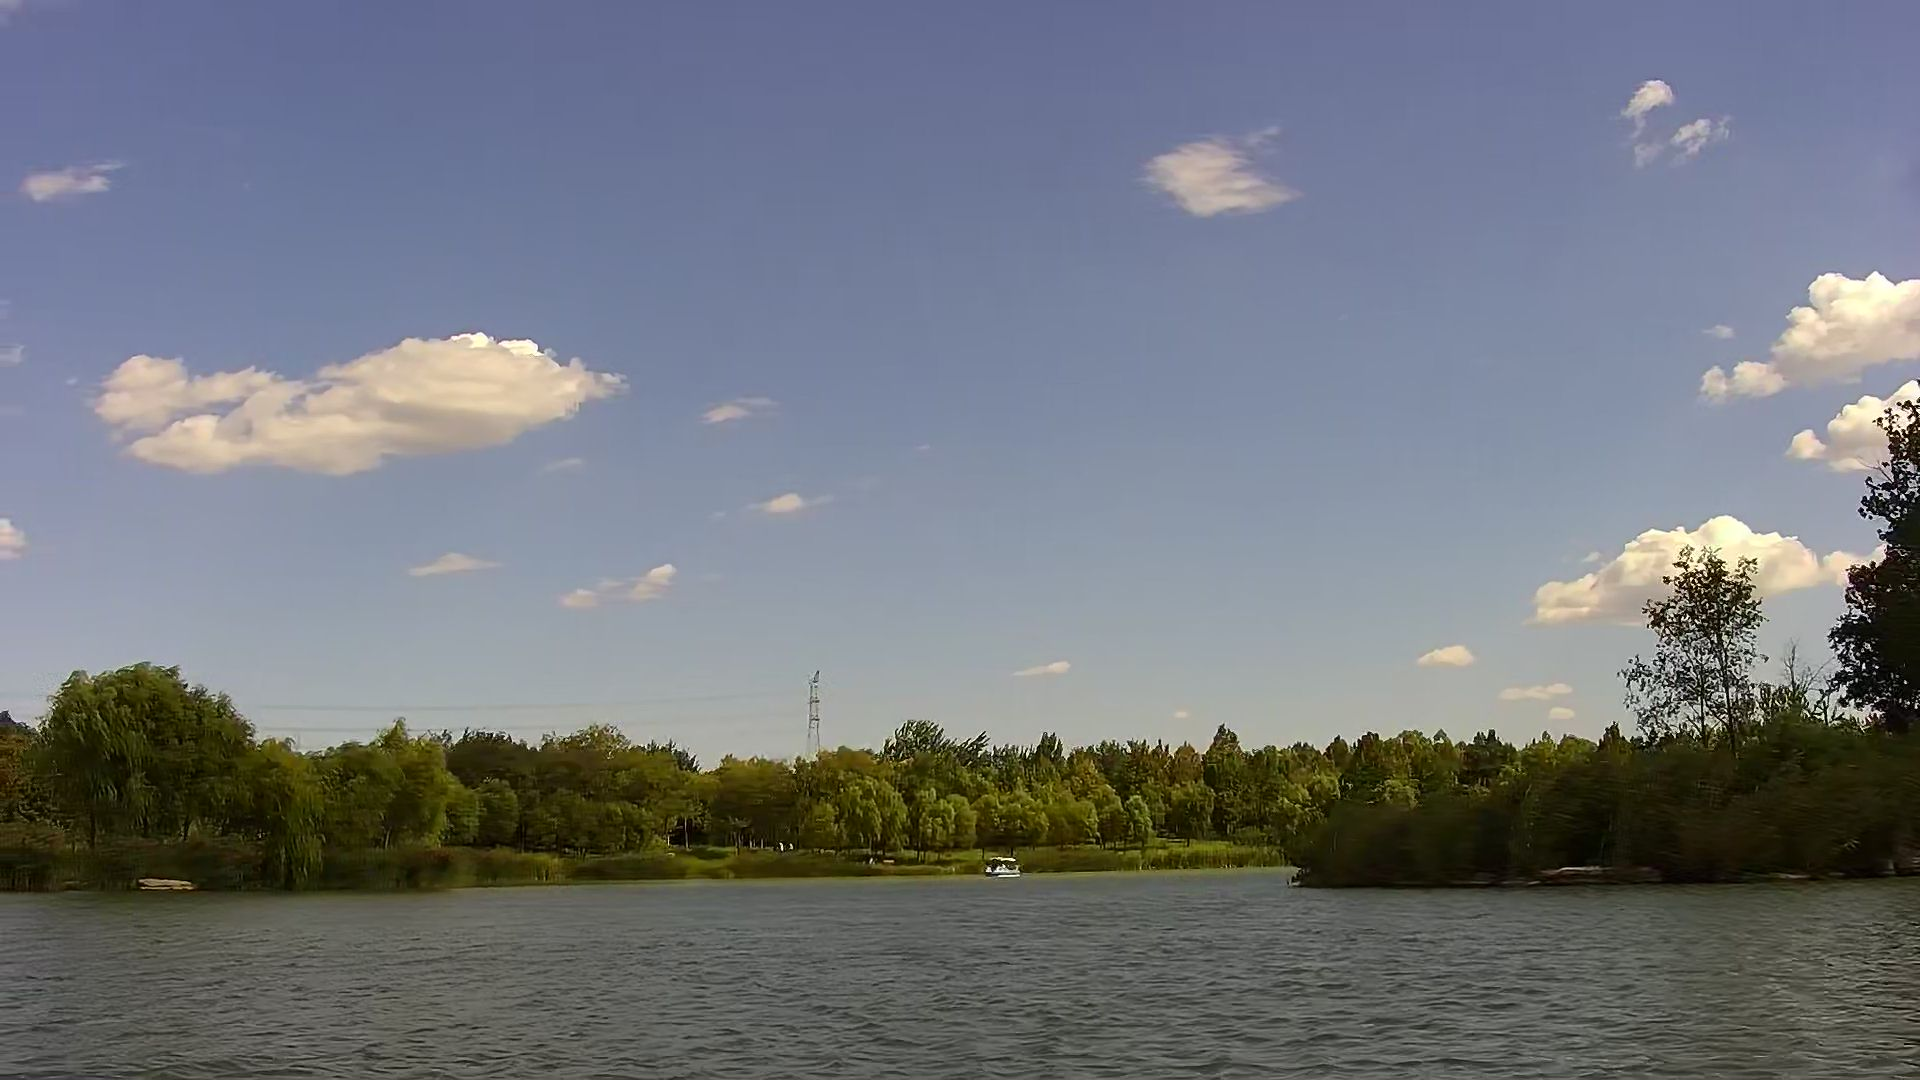boat: (982, 856, 1021, 880)
rock: (1547, 860, 1643, 884), (138, 876, 189, 891), (1767, 868, 1800, 884)
